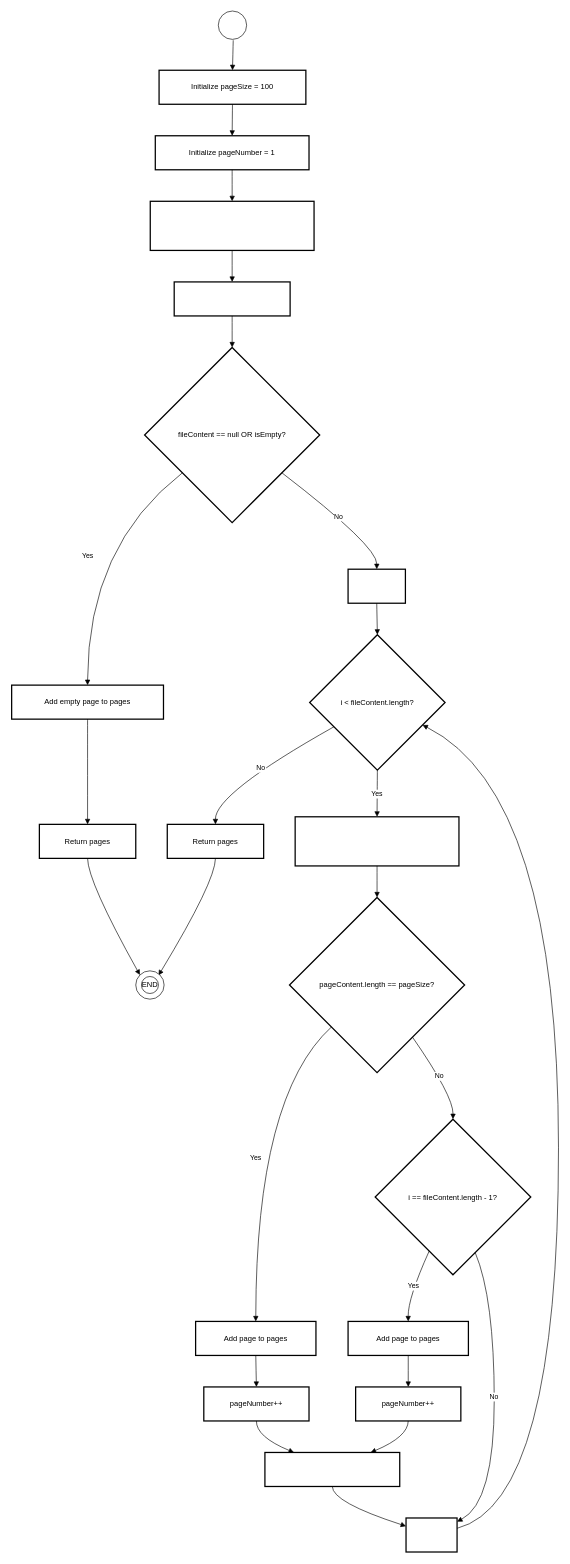
Some shapes in this 570 by 1564 pixel diagram are drawn without their labels. The shapes that lost their labels are listed below. From the top down, each one's centre as x and y in pixels, then its label:
pixel 232 24: Start
pixel 231 225: Initialize pageContent = empty
pixel 231 298: Create pages List
pixel 376 586: i = 0
pixel 376 841: Append fileContent.charAt i to pageContent
pixel 332 1469: pageContent = empty
pixel 431 1534: i++
